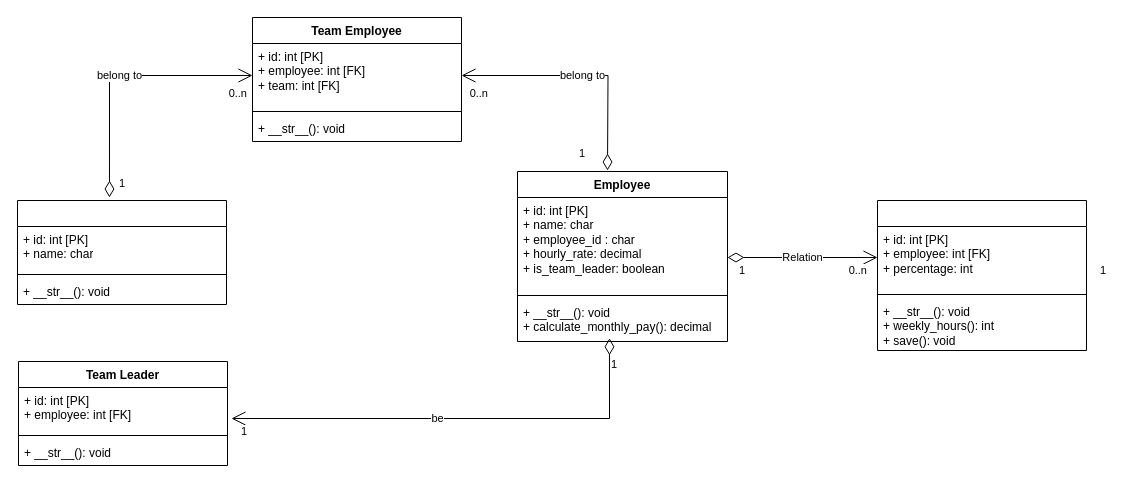
Image size: 1124x486. Some labels were removed from this diagram. The shapes that lost their labels are listed below. From the top down, each one's box as (x1, y1, x2, y2) in pixels, then its label:
(16, 200, 226, 304): Team
(876, 200, 1086, 350): Work Arrangement
